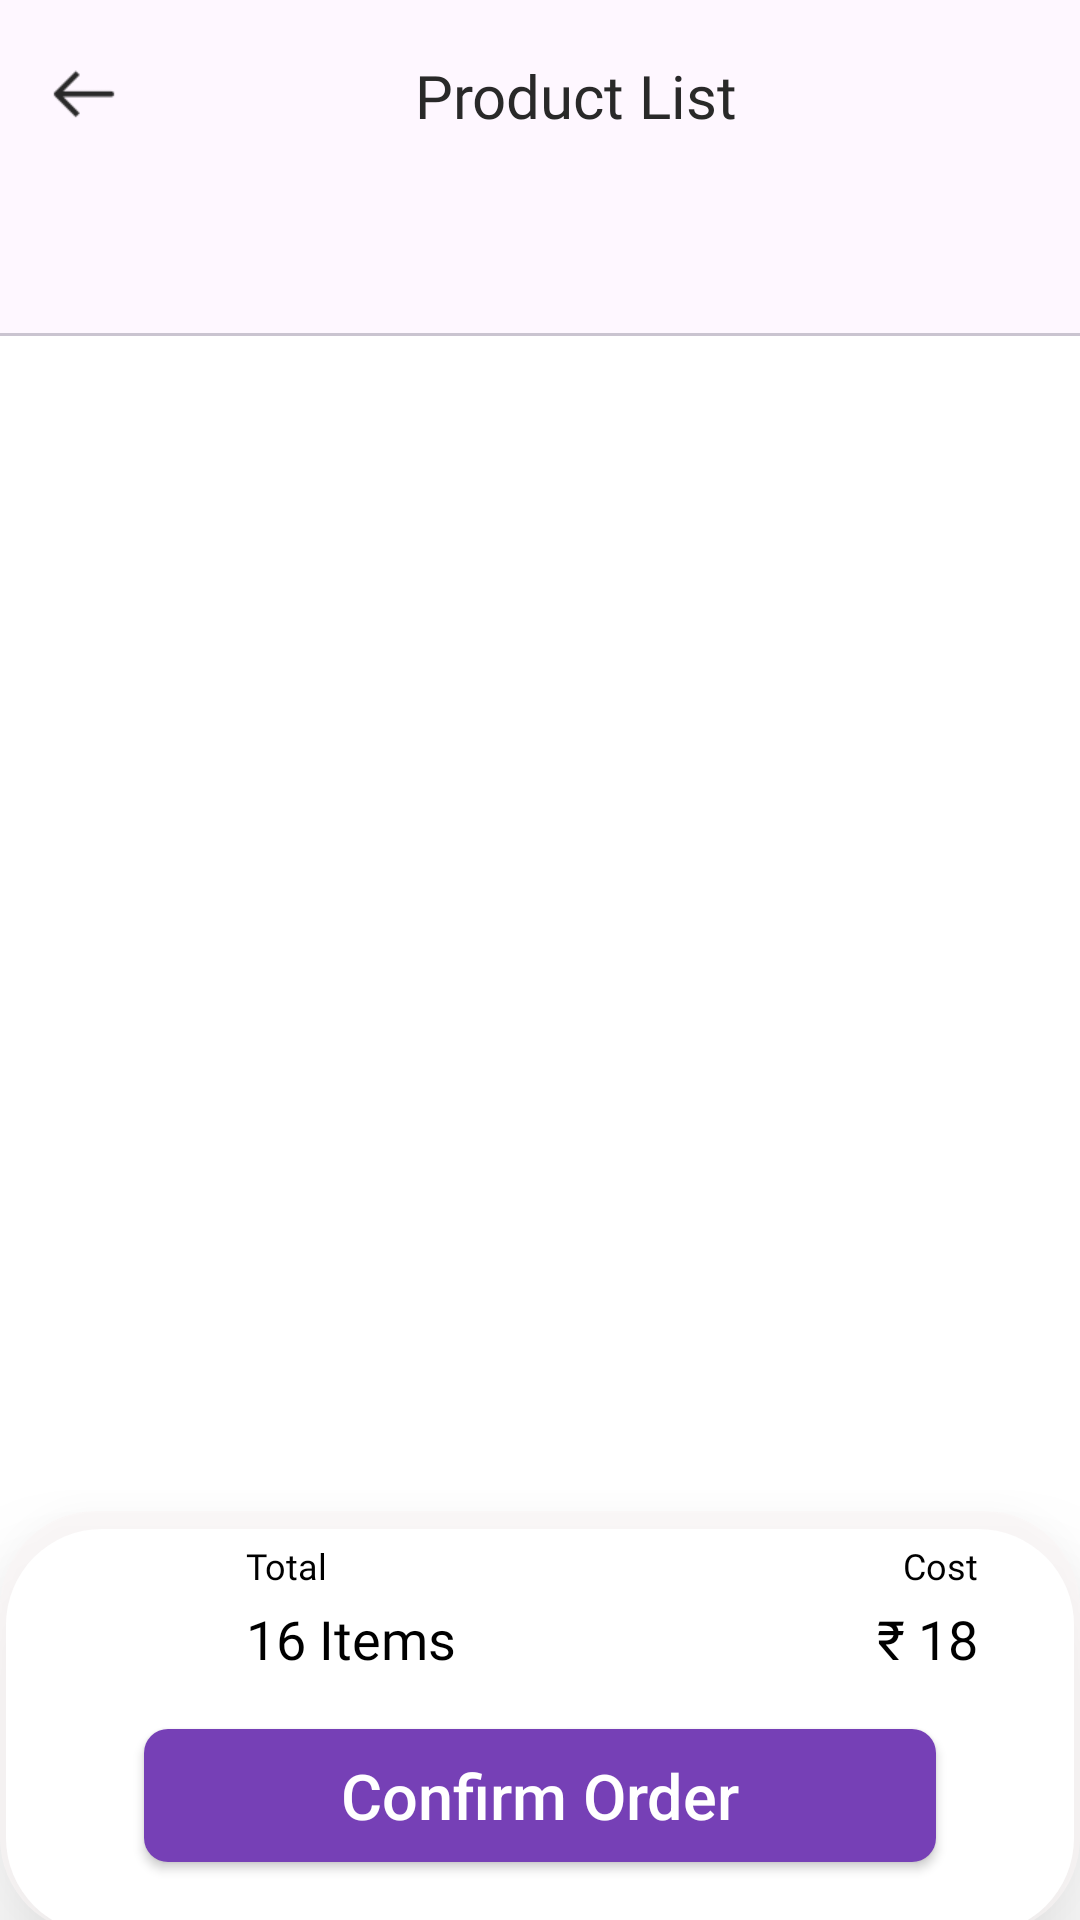

Screen size 1080px×1920px. Icon name, then its center in pixels as point (x, y):
arrow left: point (84, 93)
